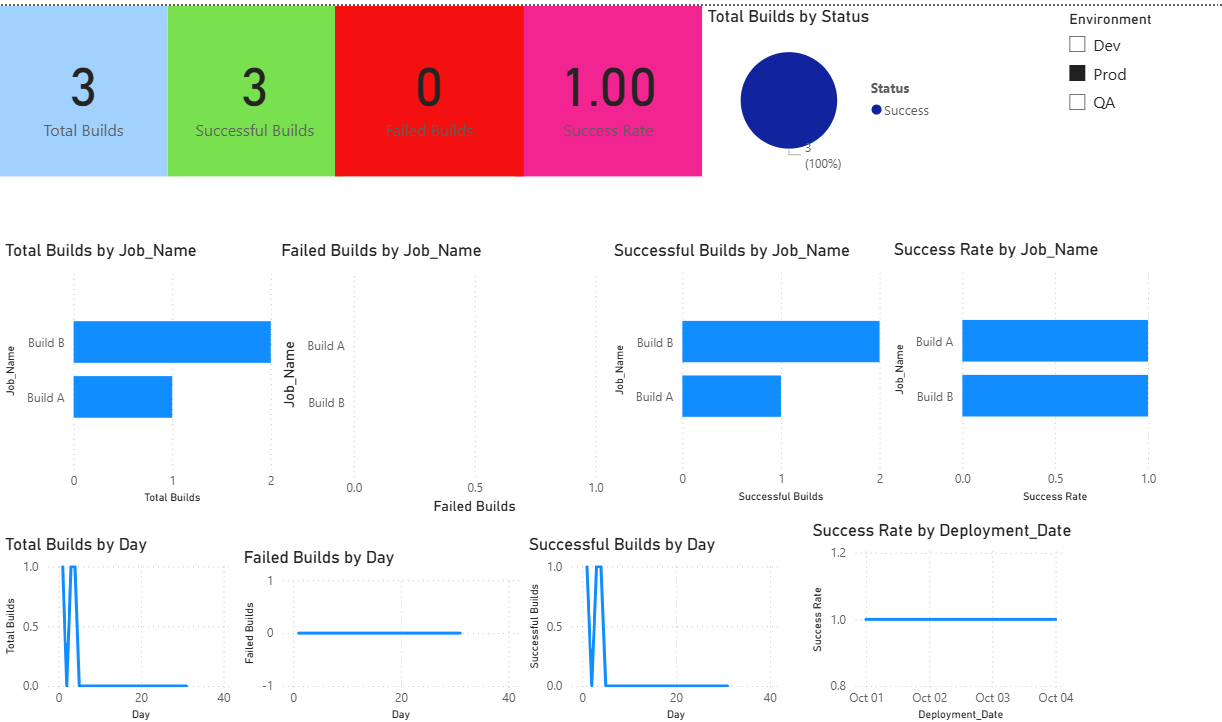

This screenshot's page, from the dashboard's own definition file:
{"tool":"powerbi","page":{"name":"Page 1","canvas":[1280,720],"ordinal":0},"visuals":[{"type":"card","fields":{"Values":["CICD_Builds.Total Builds"]},"box":[0,0,167.5,170],"z":0},{"type":"card","fields":{"Values":["CICD_Builds.Successful Builds"]},"box":[167.5,0,175,170],"z":1000},{"type":"card","fields":{"Values":["CICD_Builds.Success Rate"]},"box":[515,0,187.5,170],"z":2000},{"type":"card","fields":{"Values":["CICD_Builds.Failed Builds"]},"box":[335,0,188.8,170],"z":3000},{"type":"clusteredBarChart","fields":{"Y":["CICD_Builds.Total Builds"],"Category":["CICD_Builds.Job_Name"]},"box":[0,233.8,280,268.8],"z":4000},{"type":"clusteredBarChart","fields":{"Category":["CICD_Builds.Job_Name"],"Y":["CICD_Builds.Failed Builds"]},"box":[276.2,233.8,332.5,280],"z":5000},{"type":"clusteredBarChart","fields":{"Y":["CICD_Builds.Success Rate"],"Category":["CICD_Builds.Job_Name"]},"box":[888.8,232.5,272.5,268.8],"z":6000},{"type":"clusteredBarChart","fields":{"Y":["CICD_Builds.Successful Builds"],"Category":["CICD_Builds.Job_Name"]},"box":[608.8,233.8,280,267.5],"z":7000},{"type":"lineChart","fields":{"Category":["CICD_Builds.Deployment_Date.Variation.Date Hierarchy.Year","CICD_Builds.Deployment_Date.Variation.Date Hierarchy.Quarter","CICD_Builds.Deployment_Date.Variation.Date Hierarchy.Month","CICD_Builds.Deployment_Date.Variation.Date Hierarchy.Day"],"Y":["CICD_Builds.Total Builds"]},"box":[0,527.5,238.8,192.5],"z":7001},{"type":"lineChart","fields":{"Y":["CICD_Builds.Failed Builds"],"Category":["CICD_Builds.Deployment_Date.Variation.Date Hierarchy.Year","CICD_Builds.Deployment_Date.Variation.Date Hierarchy.Quarter","CICD_Builds.Deployment_Date.Variation.Date Hierarchy.Month","CICD_Builds.Deployment_Date.Variation.Date Hierarchy.Day"]},"box":[238.8,541.2,285,178.8],"z":7002},{"type":"lineChart","fields":{"Category":["CICD_Builds.Deployment_Date.Variation.Date Hierarchy.Year","CICD_Builds.Deployment_Date.Variation.Date Hierarchy.Quarter","CICD_Builds.Deployment_Date.Variation.Date Hierarchy.Month","CICD_Builds.Deployment_Date.Variation.Date Hierarchy.Day"],"Y":["CICD_Builds.Successful Builds"]},"box":[523.8,527.5,261.2,192.5],"z":7003},{"type":"lineChart","fields":{"Category":["CICD_Builds.Deployment_Date"],"Y":["CICD_Builds.Success Rate"]},"box":[807.5,513.8,271.2,206.2],"z":7004},{"type":"pieChart","fields":{"Category":["CICD_Builds.Status"],"Y":["CICD_Builds.Total Builds"]},"box":[702.5,0,241.2,170],"z":7005},{"type":"slicer","fields":{"Values":["CICD_Builds.Environment"]},"box":[1025,0,191.2,206.2],"z":7006}]}

Visuals, with their boxes on the page's 1280x720 design canvas (x1, y1, x2, y2). These are canvas units, not pixel positions in the 1222x722 screenshot, which may show the page scaled, cropped or inside an application window:
card - CICD_Builds.Total Builds: (0,0,168,170)
card - CICD_Builds.Successful Builds: (168,0,342,170)
card - CICD_Builds.Success Rate: (515,0,702,170)
card - CICD_Builds.Failed Builds: (335,0,524,170)
clusteredBarChart - CICD_Builds.Total Builds x CICD_Builds.Job_Name: (0,234,280,503)
clusteredBarChart - CICD_Builds.Job_Name x CICD_Builds.Failed Builds: (276,234,609,514)
clusteredBarChart - CICD_Builds.Success Rate x CICD_Builds.Job_Name: (889,232,1161,501)
clusteredBarChart - CICD_Builds.Successful Builds x CICD_Builds.Job_Name: (609,234,889,501)
lineChart - CICD_Builds.Deployment_Date.Variation.Date Hierarchy.Year x CICD_Builds.Deployment_Date.Variation.Date Hierarchy.Quarter: (0,528,239,720)
lineChart - CICD_Builds.Failed Builds x CICD_Builds.Deployment_Date.Variation.Date Hierarchy.Year: (239,541,524,720)
lineChart - CICD_Builds.Deployment_Date.Variation.Date Hierarchy.Year x CICD_Builds.Deployment_Date.Variation.Date Hierarchy.Quarter: (524,528,785,720)
lineChart - CICD_Builds.Deployment_Date x CICD_Builds.Success Rate: (808,514,1079,720)
pieChart - CICD_Builds.Status x CICD_Builds.Total Builds: (702,0,944,170)
slicer - CICD_Builds.Environment: (1025,0,1216,206)
